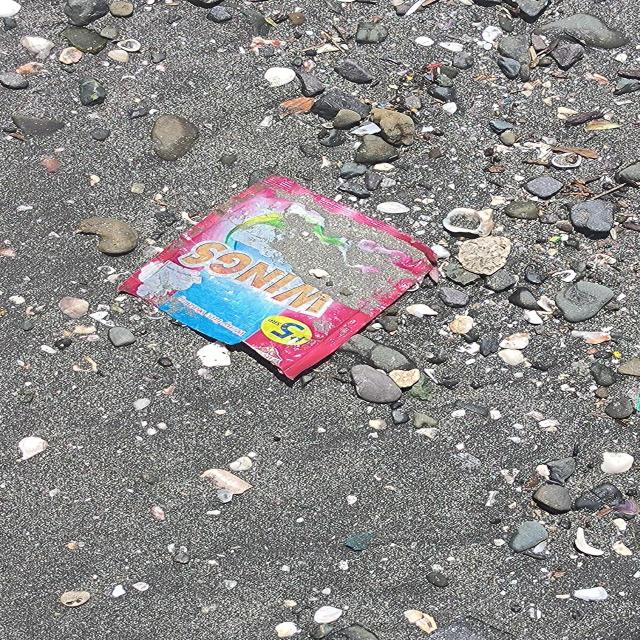plastic_waste: (117, 175, 441, 383)
